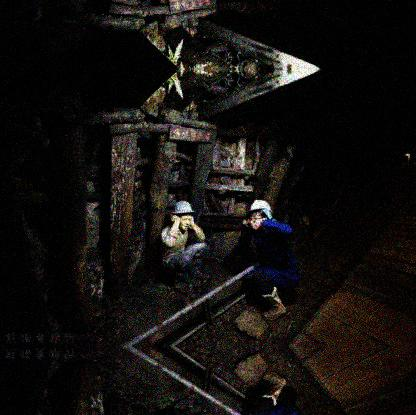helmet: (247, 200, 272, 231), (171, 200, 195, 231)
